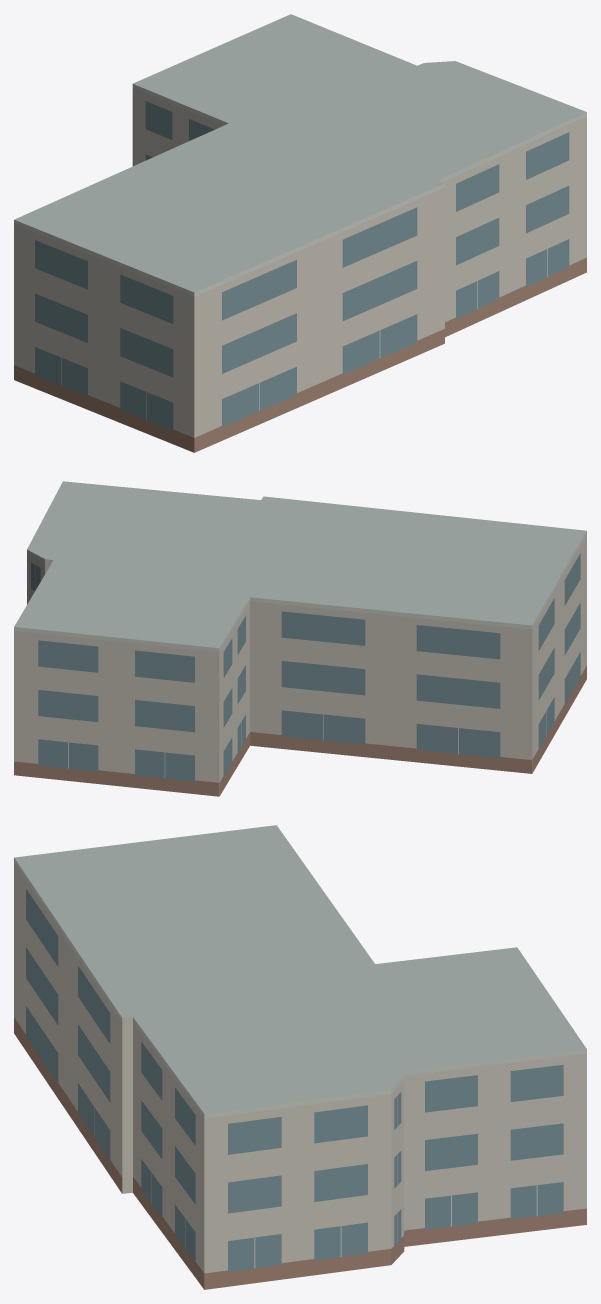
File: survey-upis-32969380.glb
3 views of the same model, one above another, from view 1: azimuth 30°, elevation 25°; view 2: azimuth 150°, elevation 25°; view 3: azimuth 270°, elevation 25° (orthographic). The views are drawn at different scales.
Visible parts, largest first — view 1: survey-upis-32969380.tmp; view 2: survey-upis-32969380.tmp; view 3: survey-upis-32969380.tmp.
Boxes of the visible parts, <box> form: survey-upis-32969380.tmp: <box>14,14,586,452</box>; survey-upis-32969380.tmp: <box>14,481,586,796</box>; survey-upis-32969380.tmp: <box>14,825,586,1289</box>.
Bounding box in the file's own units: 32.25 × 9.15 × 27.02.
